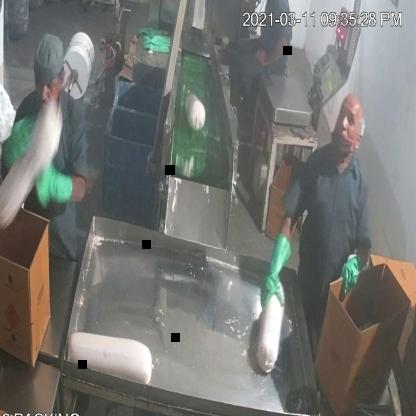glove: (257, 233, 290, 301), (330, 247, 364, 299)
no_glove: (255, 30, 291, 76)
